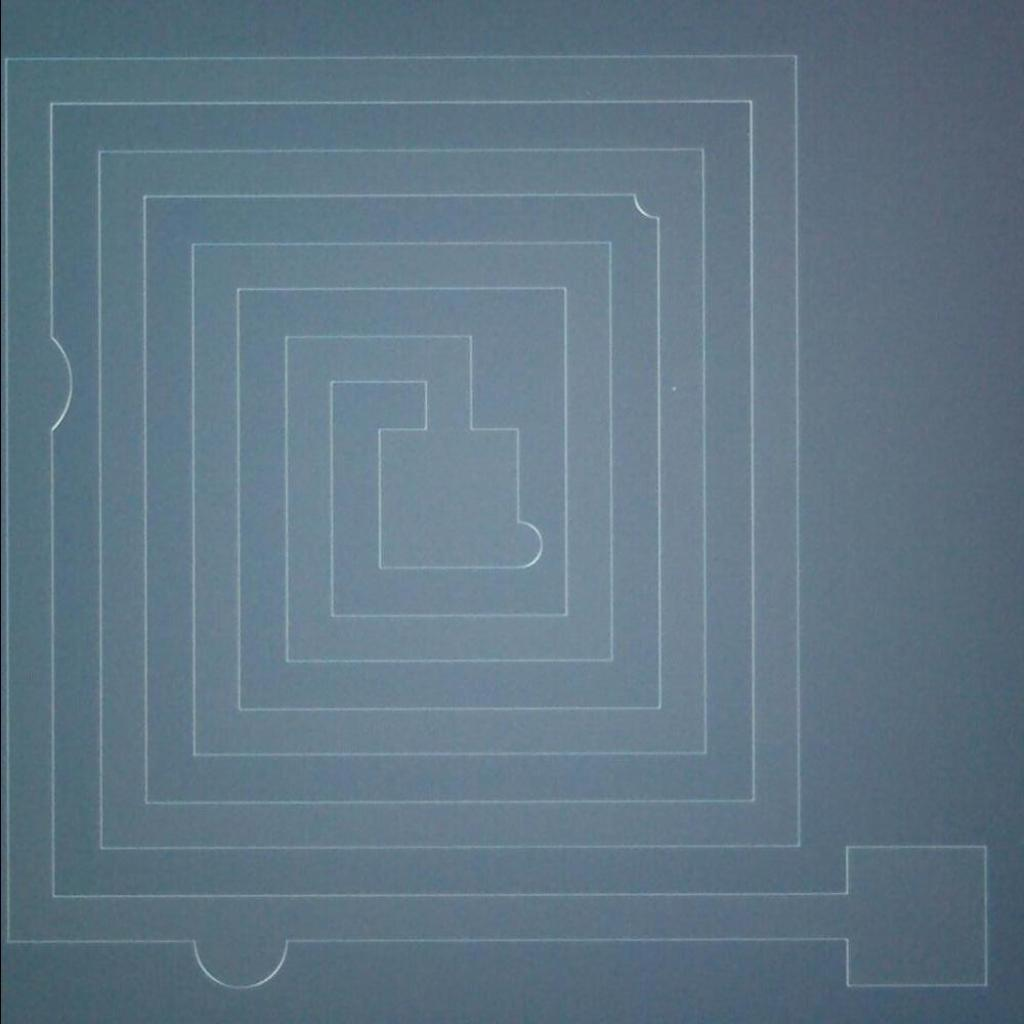curve circuit: (180, 920, 298, 993), (36, 316, 86, 447), (624, 174, 672, 230), (508, 509, 548, 575)
